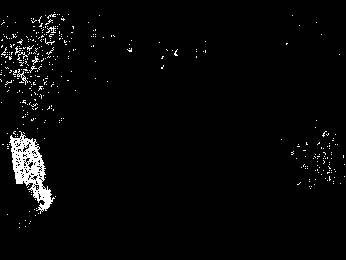person: (8, 129, 55, 214)
